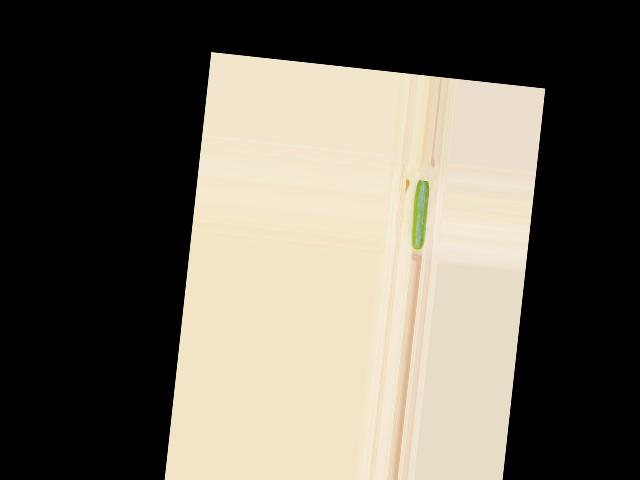cucumber: (409, 180, 430, 250)
